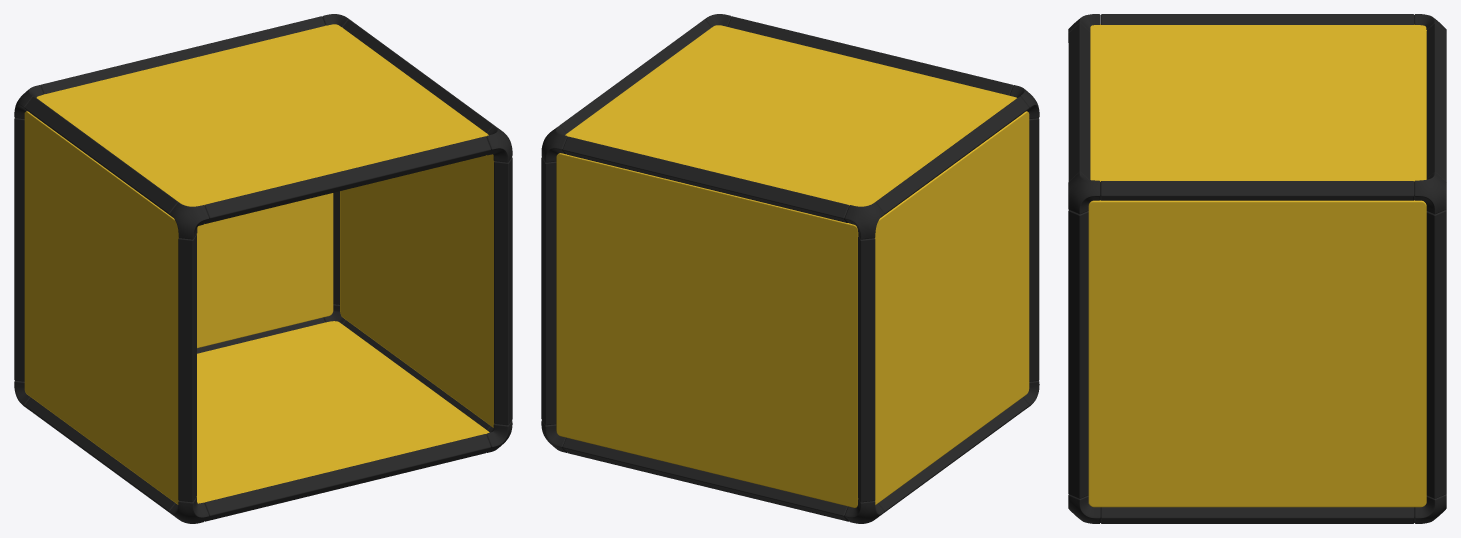
The picture shows the model from 3 angles, left to right: view 1: azimuth 30°, elevation 25°; view 2: azimuth 150°, elevation 25°; view 3: azimuth 270°, elevation 25°; orthographic projection. The views are drawn at different scales.
Parts seen in each view (by area): view 1: 420x374x374; view 2: 420x374x374; view 3: 420x374x374.
Part boxes in pixels (x1=…): 420x374x374: x1=14, y1=14, x2=512, y2=523; 420x374x374: x1=541, y1=14, x2=1039, y2=523; 420x374x374: x1=1068, y1=14, x2=1446, y2=523.
Bounding box in the file's own units: 0.4977 × 0.4516 × 0.4513.
